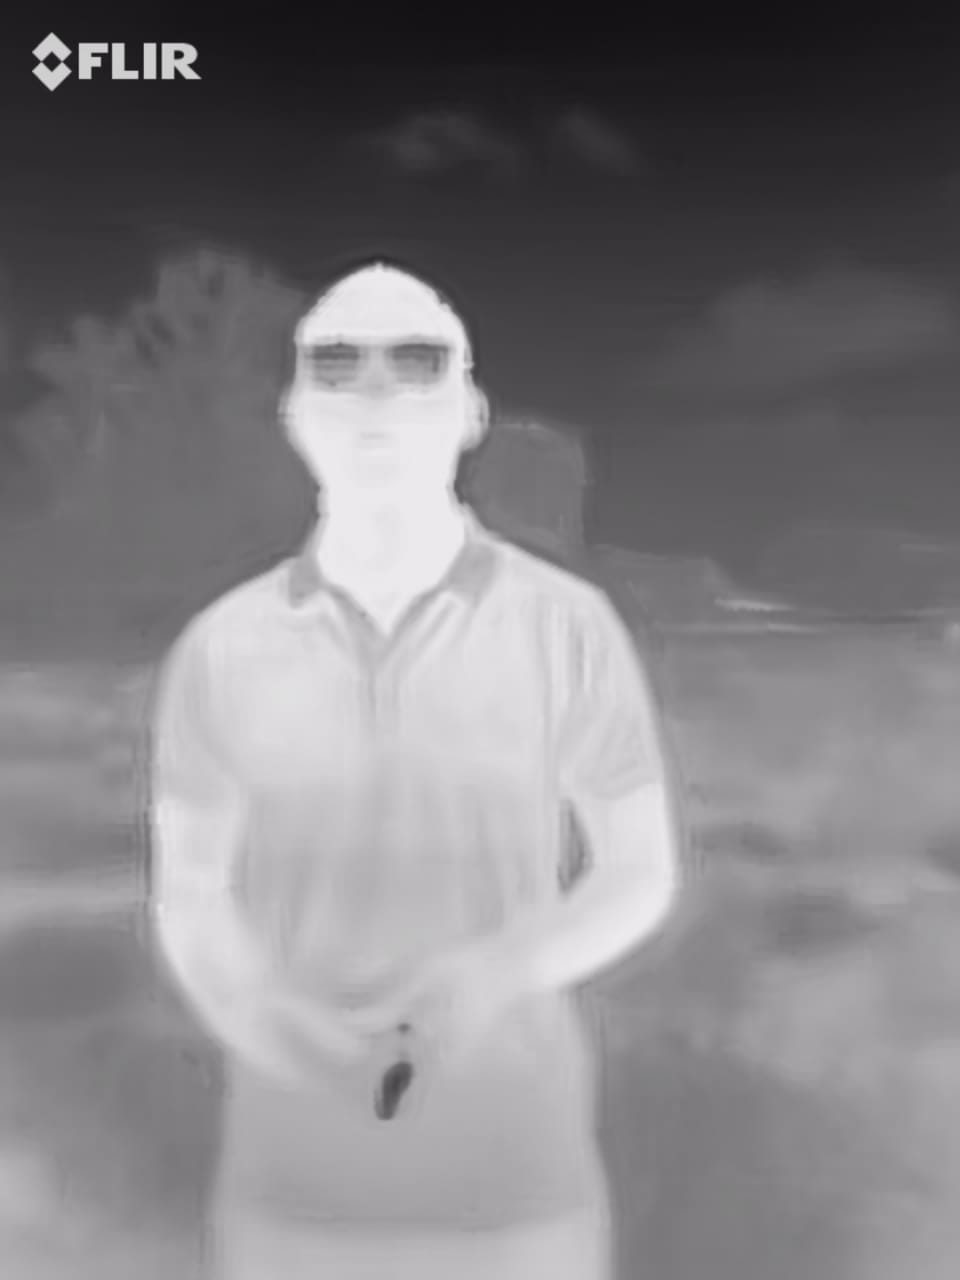head: (267, 250, 503, 545)
